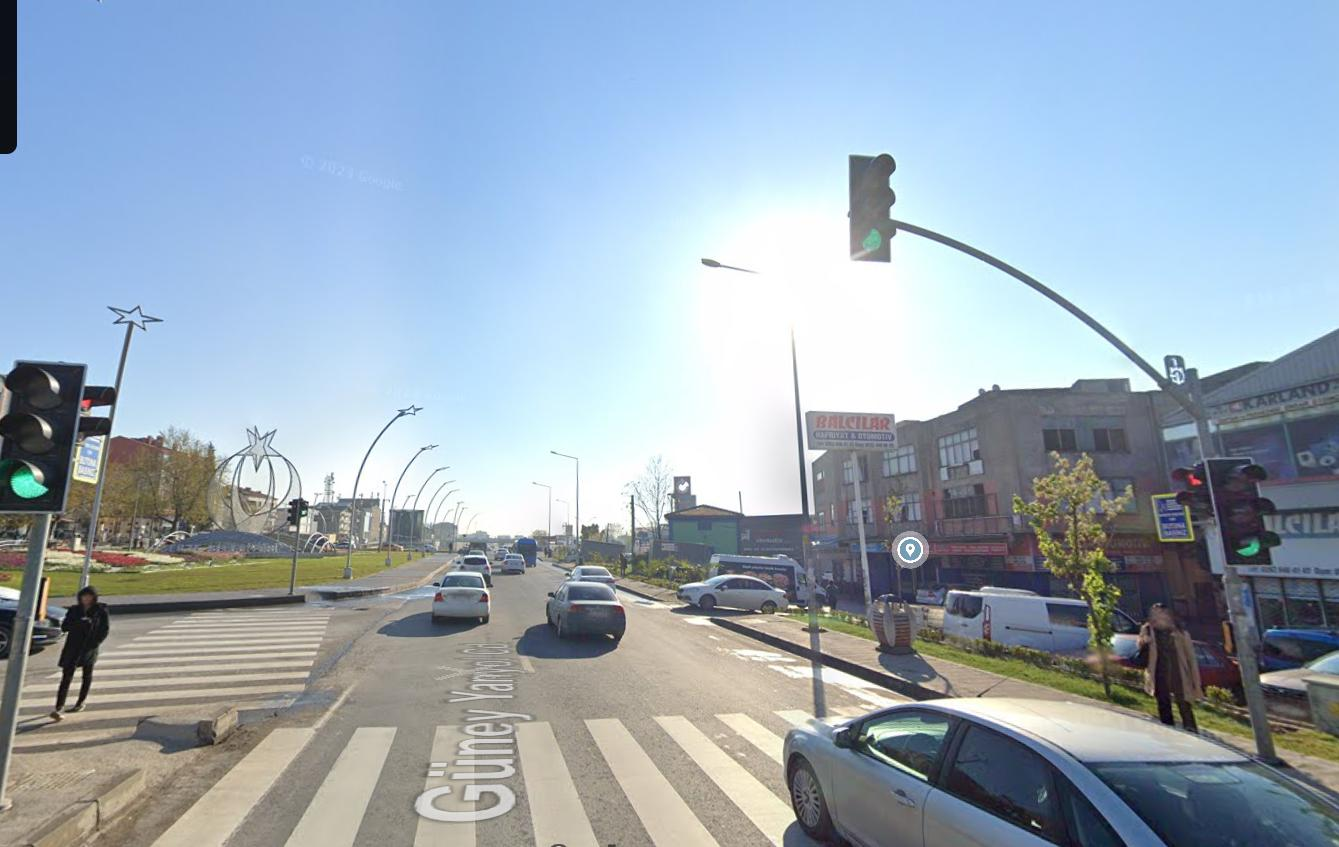greenlight: (8, 363, 63, 502), (855, 155, 892, 257)
